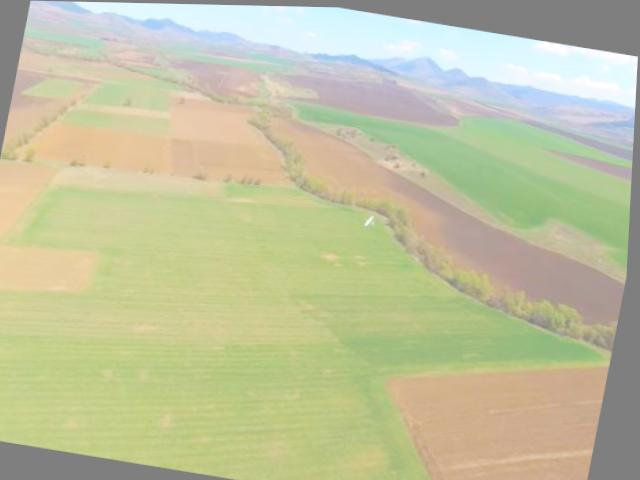uav: (361, 207, 384, 231)
